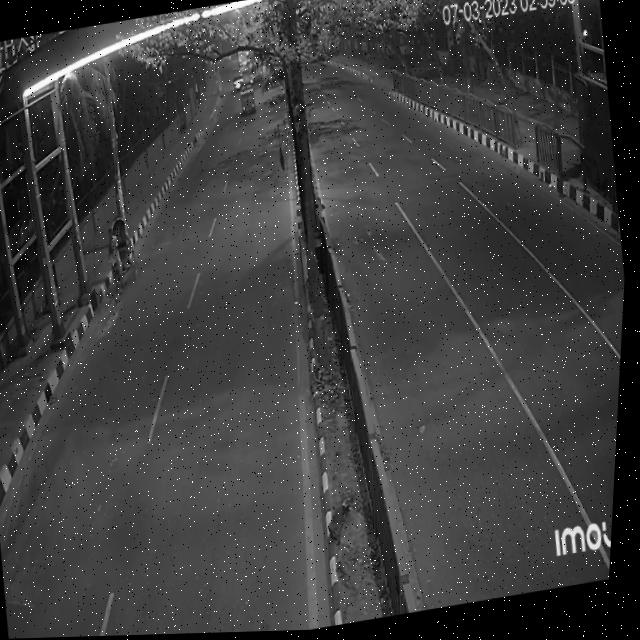rikshaw: (99, 210, 146, 306)
